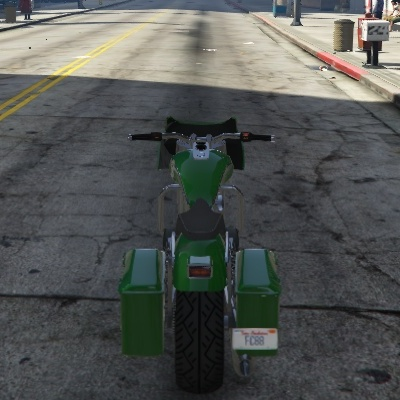off: (183, 250, 216, 284)
